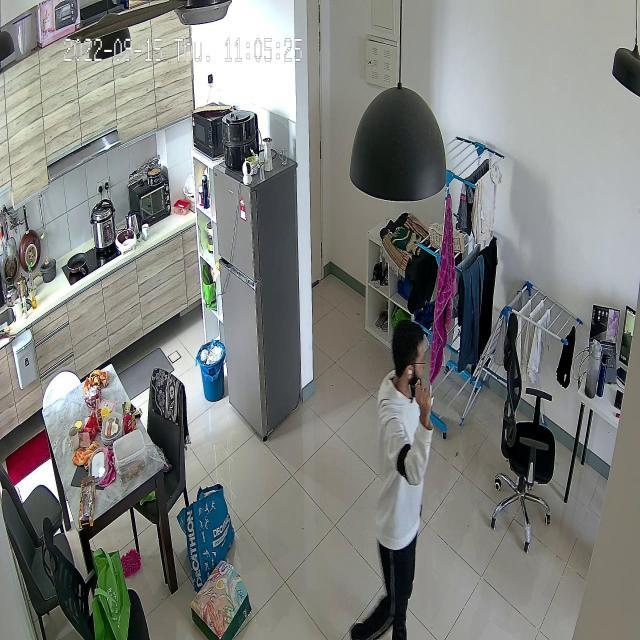Knife: (412, 341, 442, 411)
